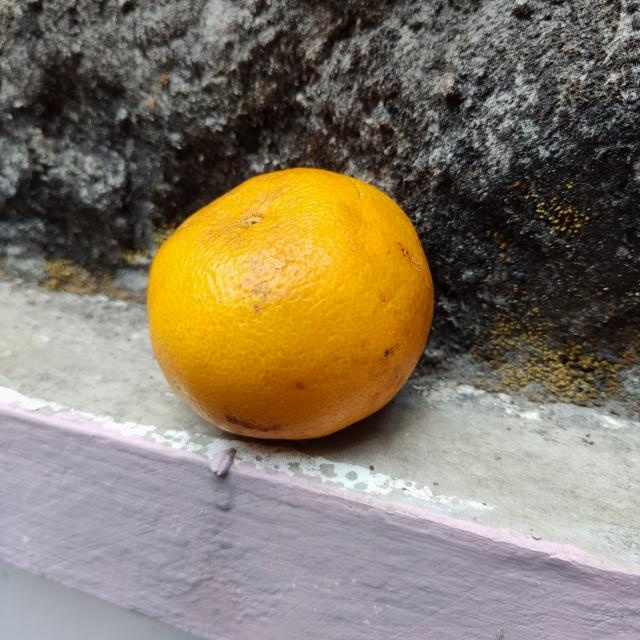agrume: (142, 161, 442, 447)
